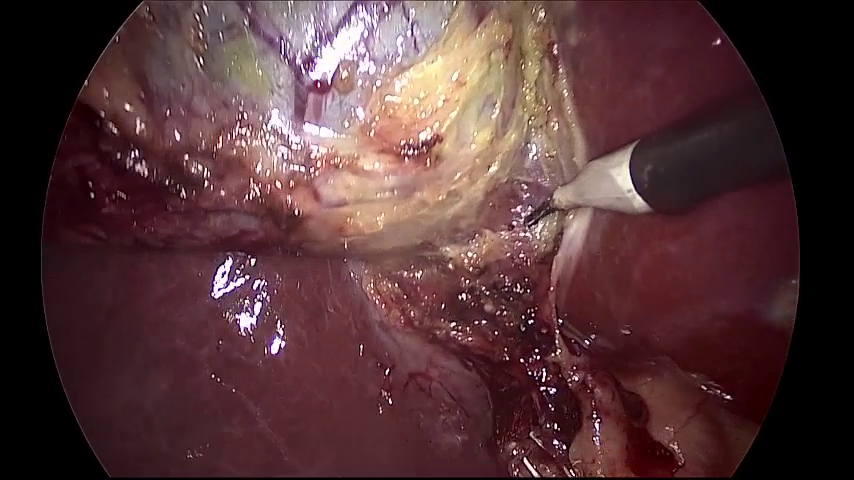lhook: (522, 75, 790, 227)
